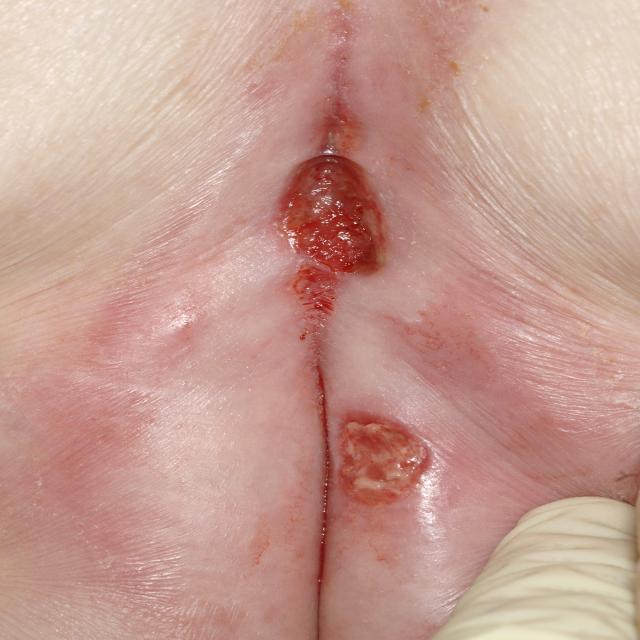wound: (265, 128, 439, 521)
